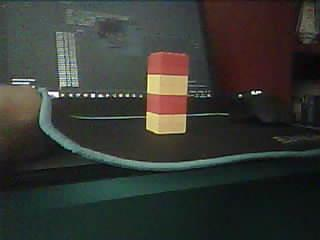lego: (146, 52, 188, 134)
